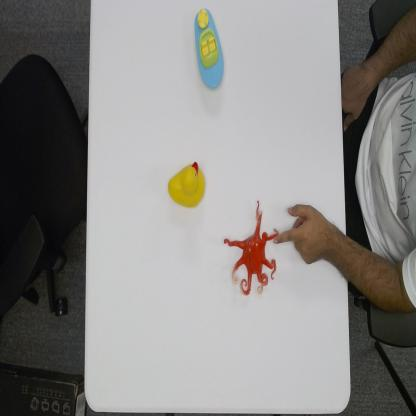Boat: (193, 5, 226, 91)
Duck: (166, 159, 206, 210)
Hand: (274, 203, 333, 266)
Octopus: (223, 197, 280, 297)
